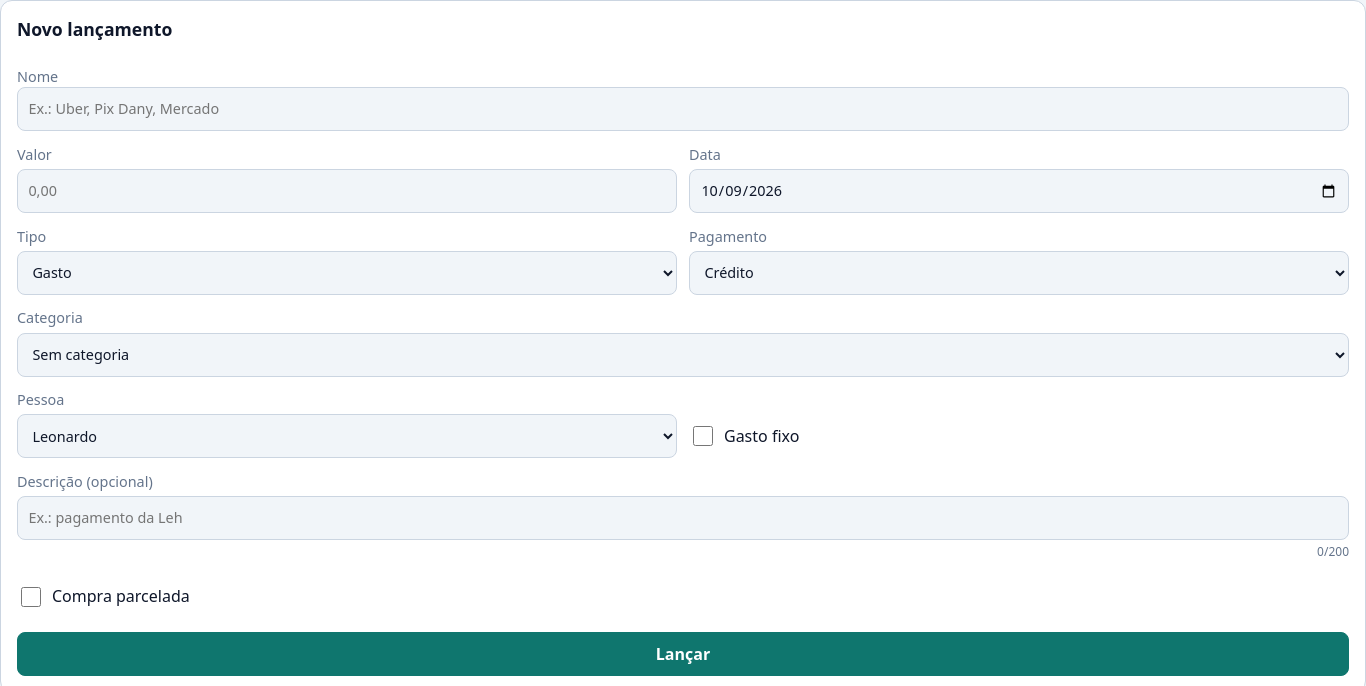
Test: autopreenchimento › um toque na sugestão preenche tipo, pagamento, categoria, pessoa e último valor
Type "ub" into the field labelled "Nome". click: (683, 109)
box: [17,87,1349,131]
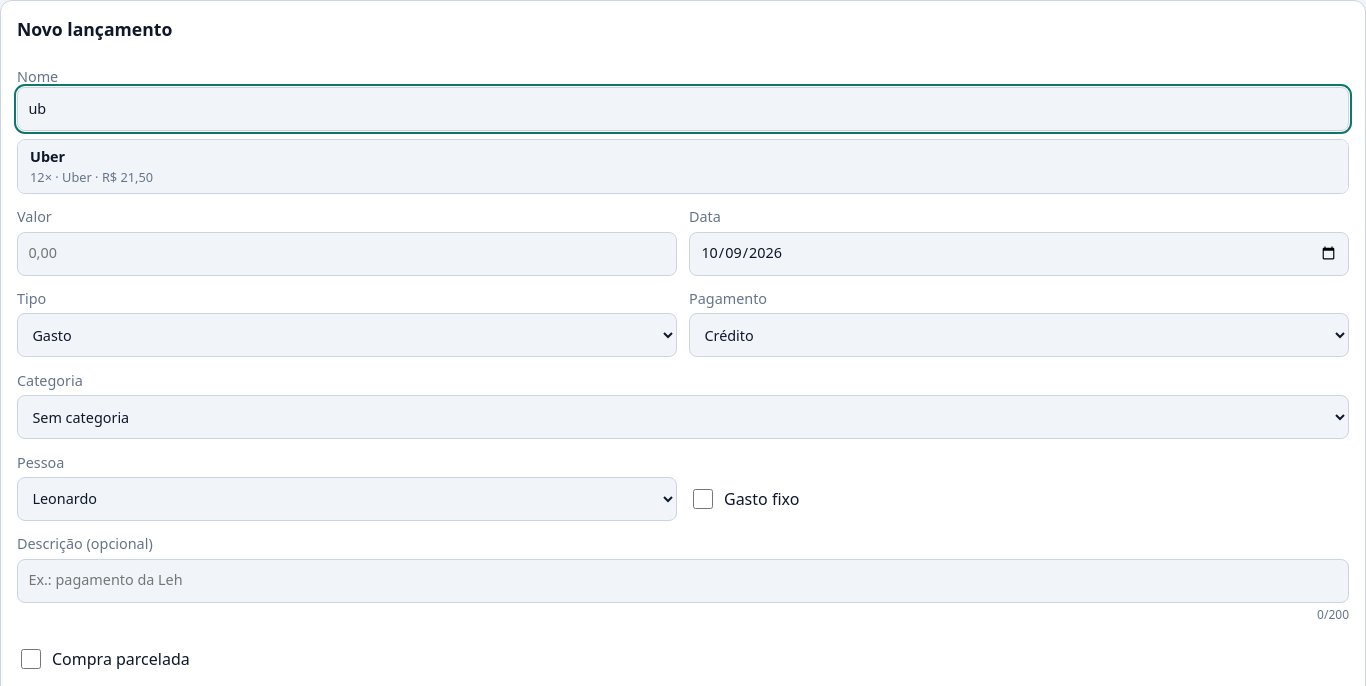
Click the button "Uber 12× · Uber · R$ 21,50". click: (48, 156)
box: [18,140,1348,193]
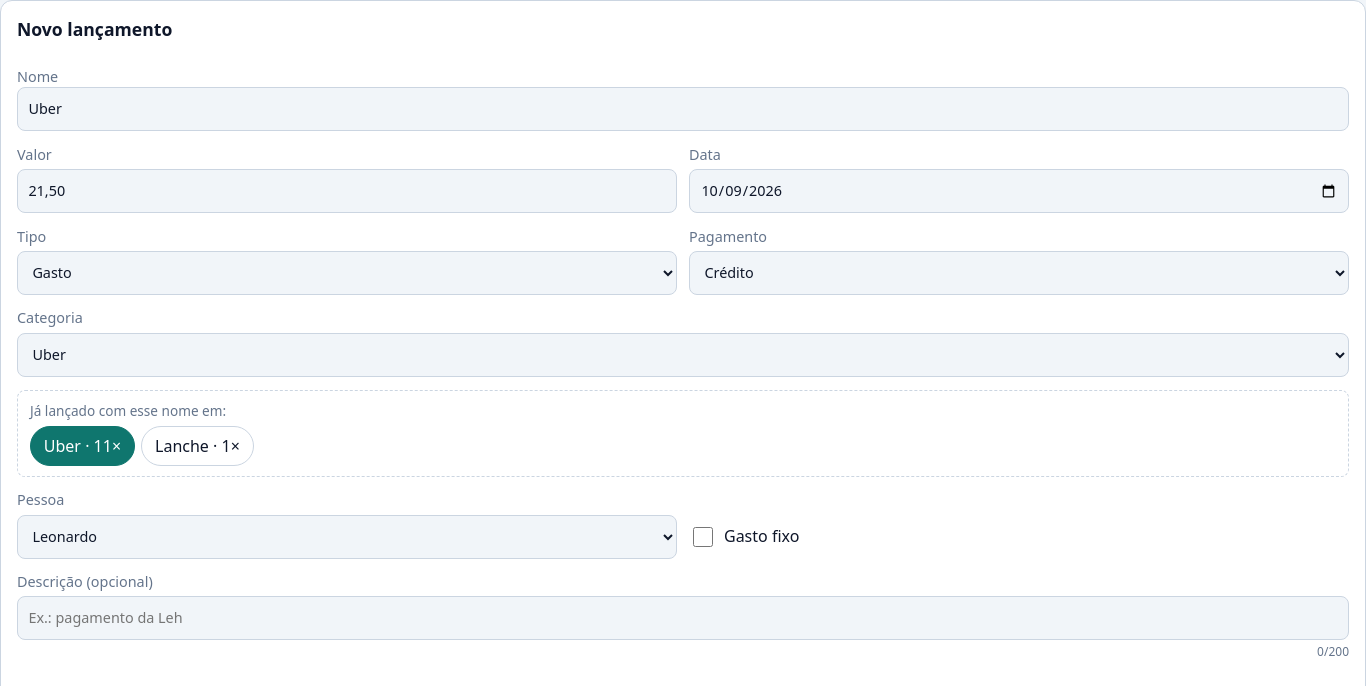
Result: the field labelled "Nome" holds "Uber" at [17,87,1349,131]
Result: the dropdown labelled "Categoria" shows "Uber" at [17,333,1349,377]
Result: the field labelled "Valor" holds "21,50" at [17,169,677,213]
